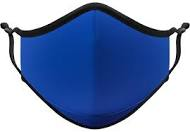cloth_mask: (1, 1, 187, 129)
